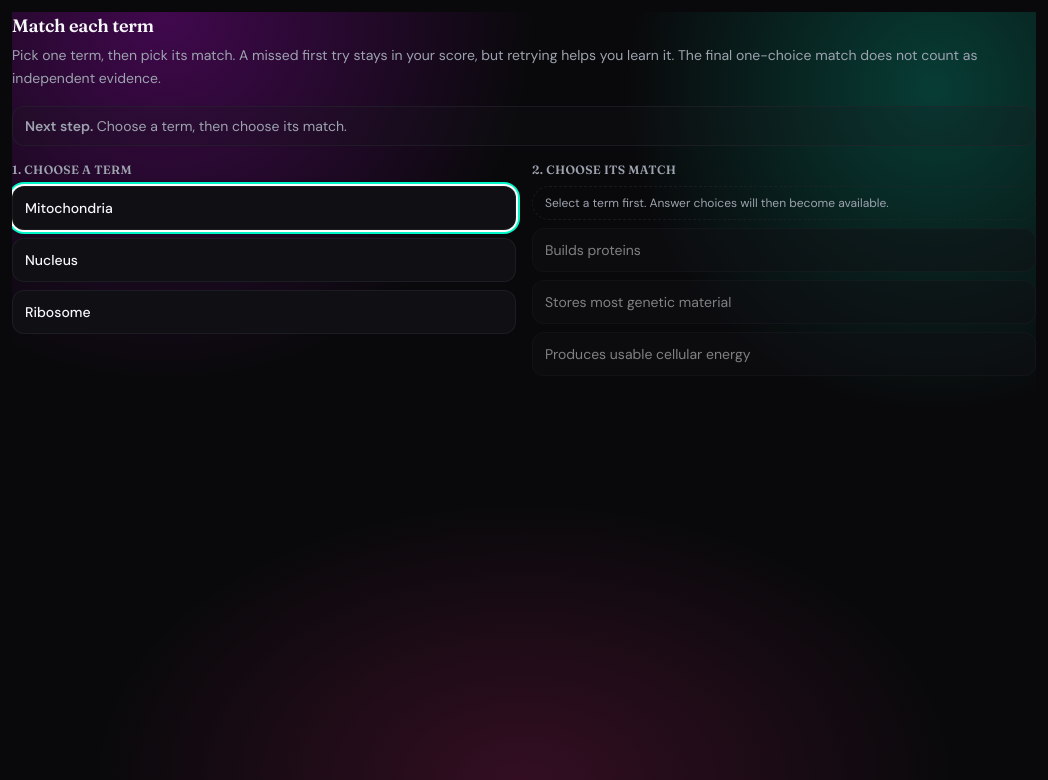
RealMatchingGame › does not emit or award completion before every pair is matched
The width and height of the screenshot is (1048, 780).
What coordinates should you click on to do the following:
click the button "Mitochondria"
I would click on:
 (69, 208)
Its box is [12,186,516,230].
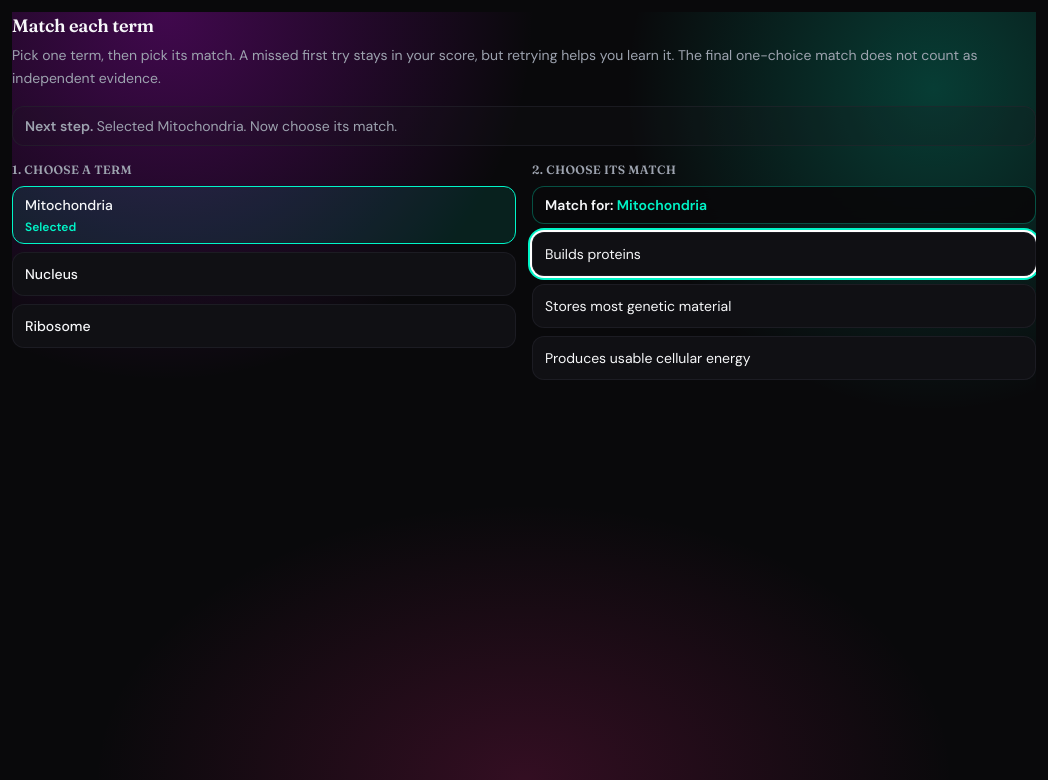
What coordinates should you click on to do the following:
click the button "Produces usable cellular energy"
I would click on:
 (648, 358)
Its box is [532,336,1036,380].
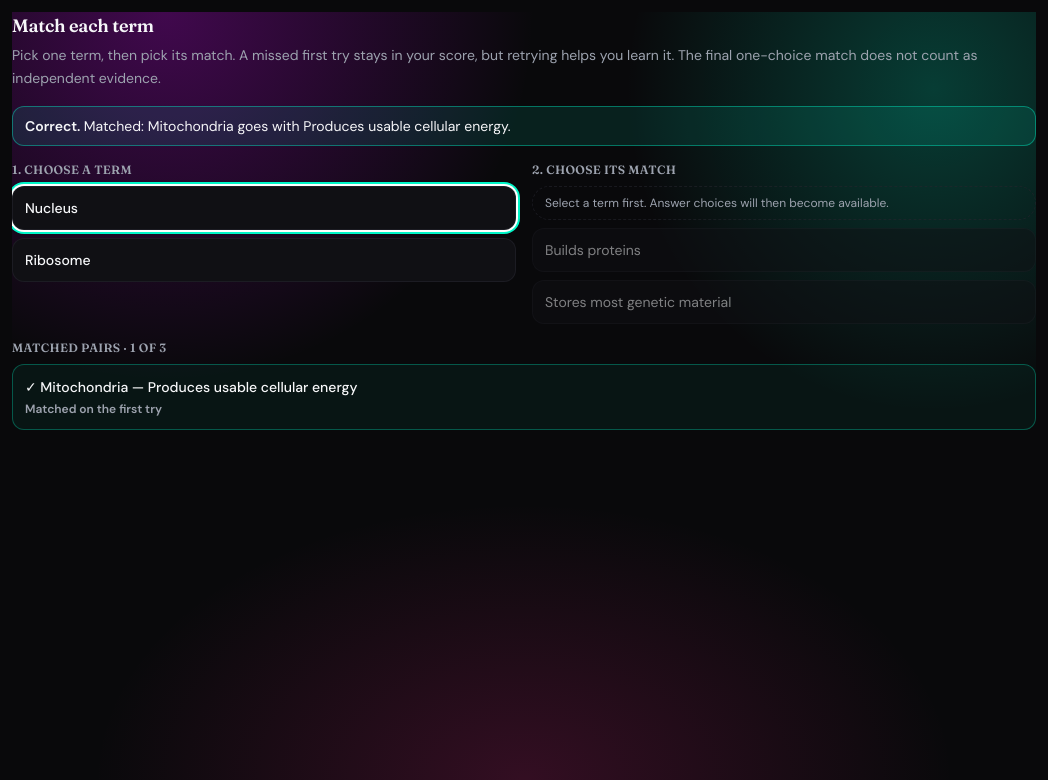
Expected: the heading "Matched pairs · 1 of 3" is shown, [12,340,166,355]
Expected: the text "Matched on the first try" is shown, [25,401,162,417]
